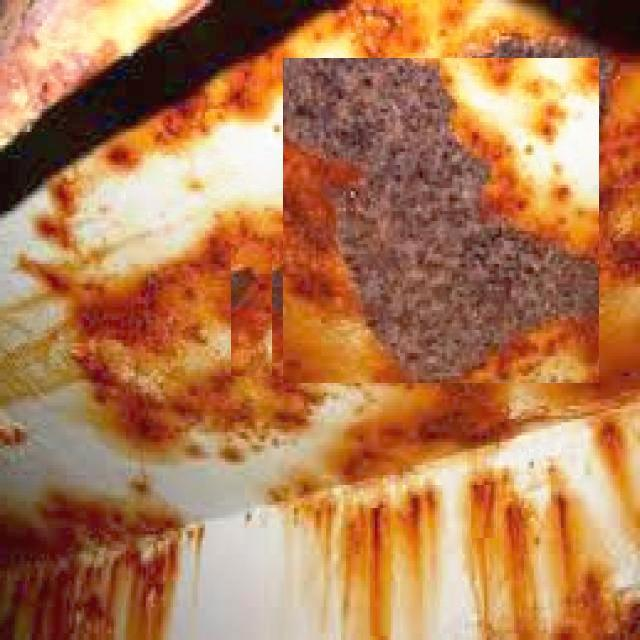Corrosion: (285, 59, 598, 380), (0, 0, 206, 146), (283, 142, 407, 383), (470, 467, 640, 640), (73, 344, 317, 458), (0, 489, 182, 640), (299, 477, 440, 640), (327, 383, 519, 483), (509, 284, 640, 426), (454, 99, 562, 244), (601, 55, 640, 378), (74, 269, 231, 346), (506, 256, 600, 384), (315, 0, 498, 58), (94, 94, 226, 168), (460, 0, 598, 56), (231, 242, 282, 383), (458, 152, 503, 306), (186, 211, 247, 310), (541, 170, 600, 258), (208, 68, 283, 134), (467, 332, 538, 382), (35, 175, 75, 250), (231, 241, 273, 304), (567, 58, 600, 138), (29, 262, 84, 300), (50, 156, 107, 190), (527, 100, 569, 144), (495, 33, 534, 56), (0, 424, 26, 448), (490, 59, 511, 84)
